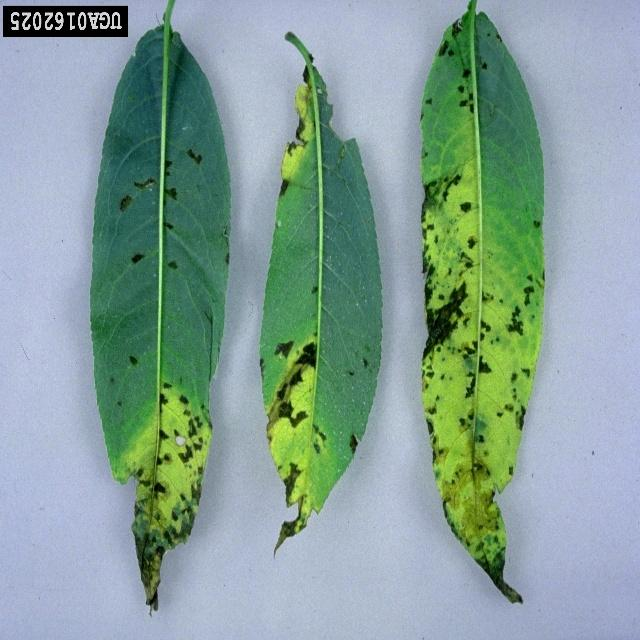shot_hole: (403, 0, 544, 612), (250, 4, 391, 616), (93, 41, 234, 640)
